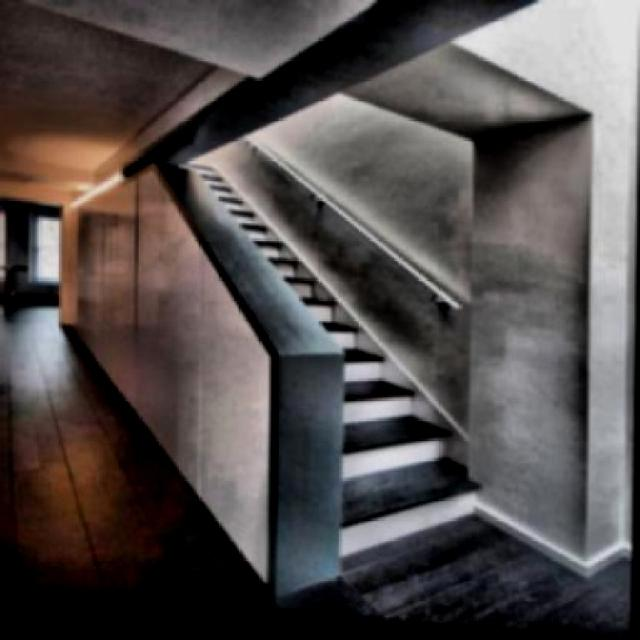stair: (180, 157, 483, 617)
